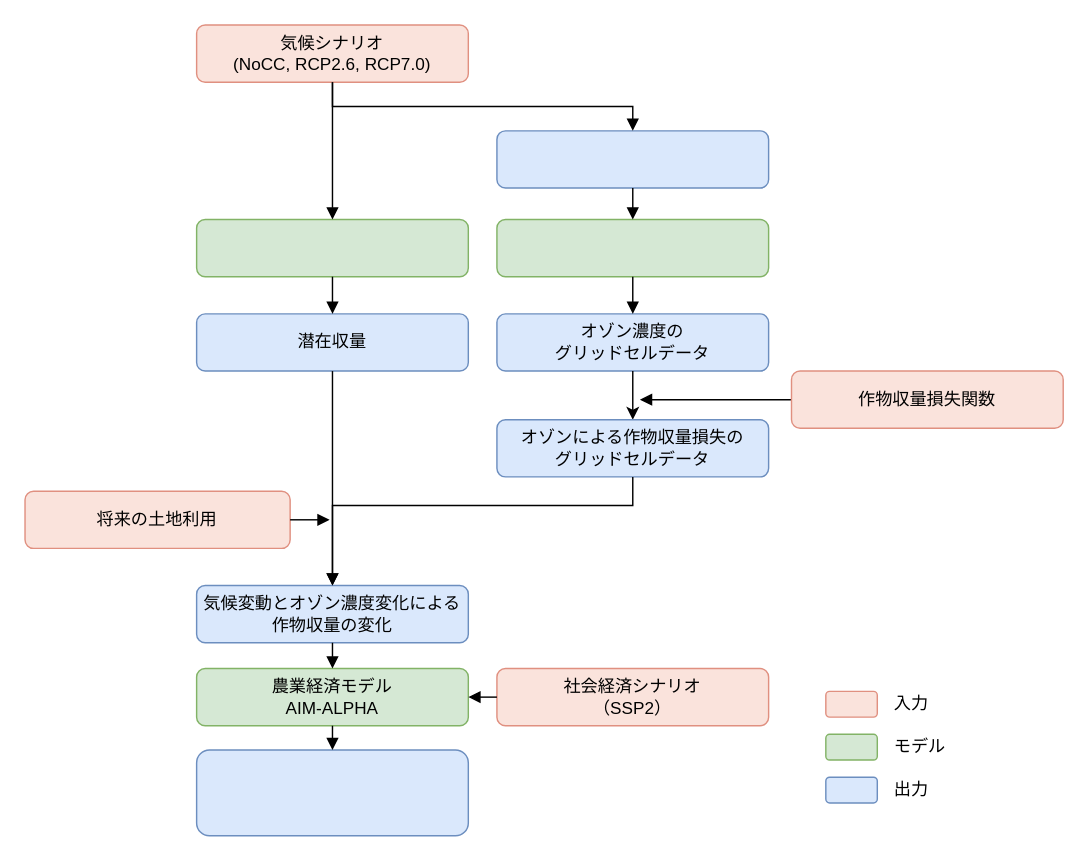
This 1088x861 diagram has some shape labels left out. Each missing label, with the box of its shape:
作物モデル: (195, 218, 468, 277)
化学輸送モデル GEOS-Chem: (495, 218, 769, 277)
大気汚染物質の排出： NOx、VOC、CH4 など: (495, 129, 769, 188)
最終収量 生産者量 生産者価格 など: (195, 749, 468, 836)
